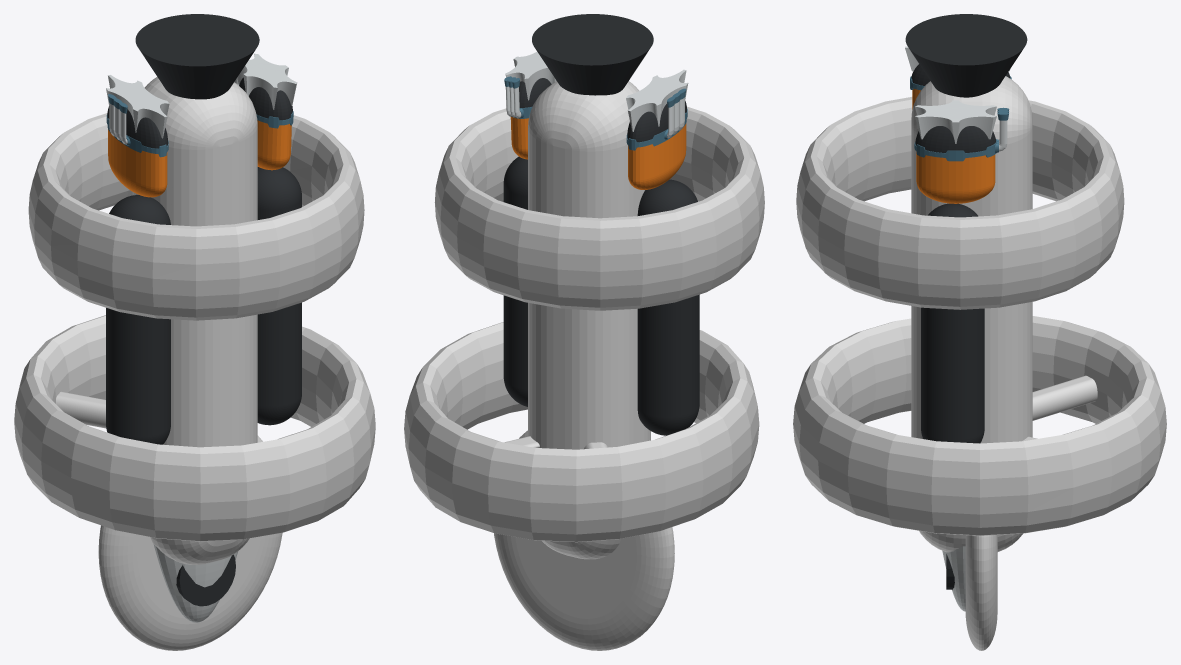
File: tinker.obj
3 renders of one model, left to right at view 1: azimuth 30°, elevation 25°; view 2: azimuth 150°, elevation 25°; view 3: azimuth 270°, elevation 25°, orthographic.
Visible parts, largest first — view 1: group_0_16448250, group_0_2829873, group_0_14541540, group_0_16089887, group_0_5011340; view 2: group_0_16448250, group_0_2829873, group_0_14541540, group_0_16089887, group_0_5011340; view 3: group_0_16448250, group_0_2829873, group_0_14541540, group_0_16089887, group_0_5011340.
Boxes of the visible parts, x1,y1,x2,y2 form: group_0_16448250: (14, 77, 375, 650); group_0_2829873: (106, 14, 301, 606); group_0_14541540: (106, 53, 297, 622); group_0_16089887: (108, 120, 291, 197); group_0_5011340: (106, 94, 293, 157); group_0_16448250: (404, 81, 764, 650); group_0_2829873: (503, 14, 699, 435); group_0_14541540: (505, 51, 688, 138); group_0_16089887: (510, 116, 686, 189); group_0_5011340: (504, 76, 687, 150); group_0_16448250: (793, 76, 1166, 650); group_0_2829873: (905, 14, 1027, 589); group_0_14541540: (905, 46, 1010, 611); group_0_16089887: (912, 88, 995, 203); group_0_5011340: (910, 76, 1011, 161).
Size of the model in its own units: 109 by 208 by 117.
